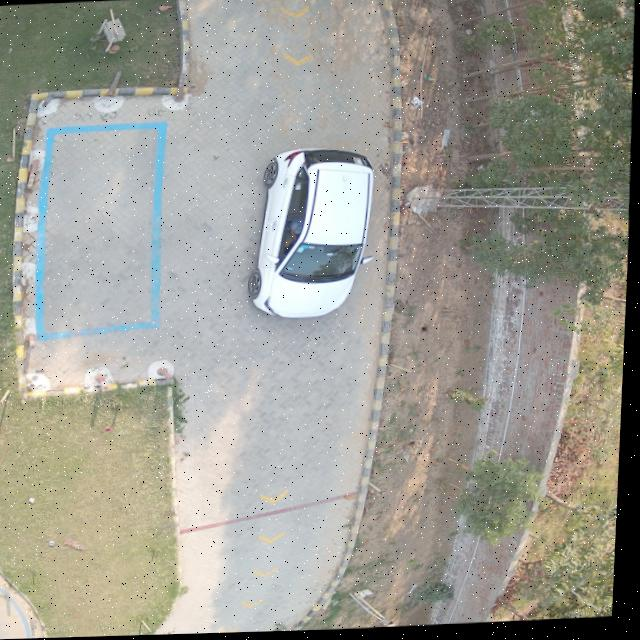car: (249, 150, 375, 320)
